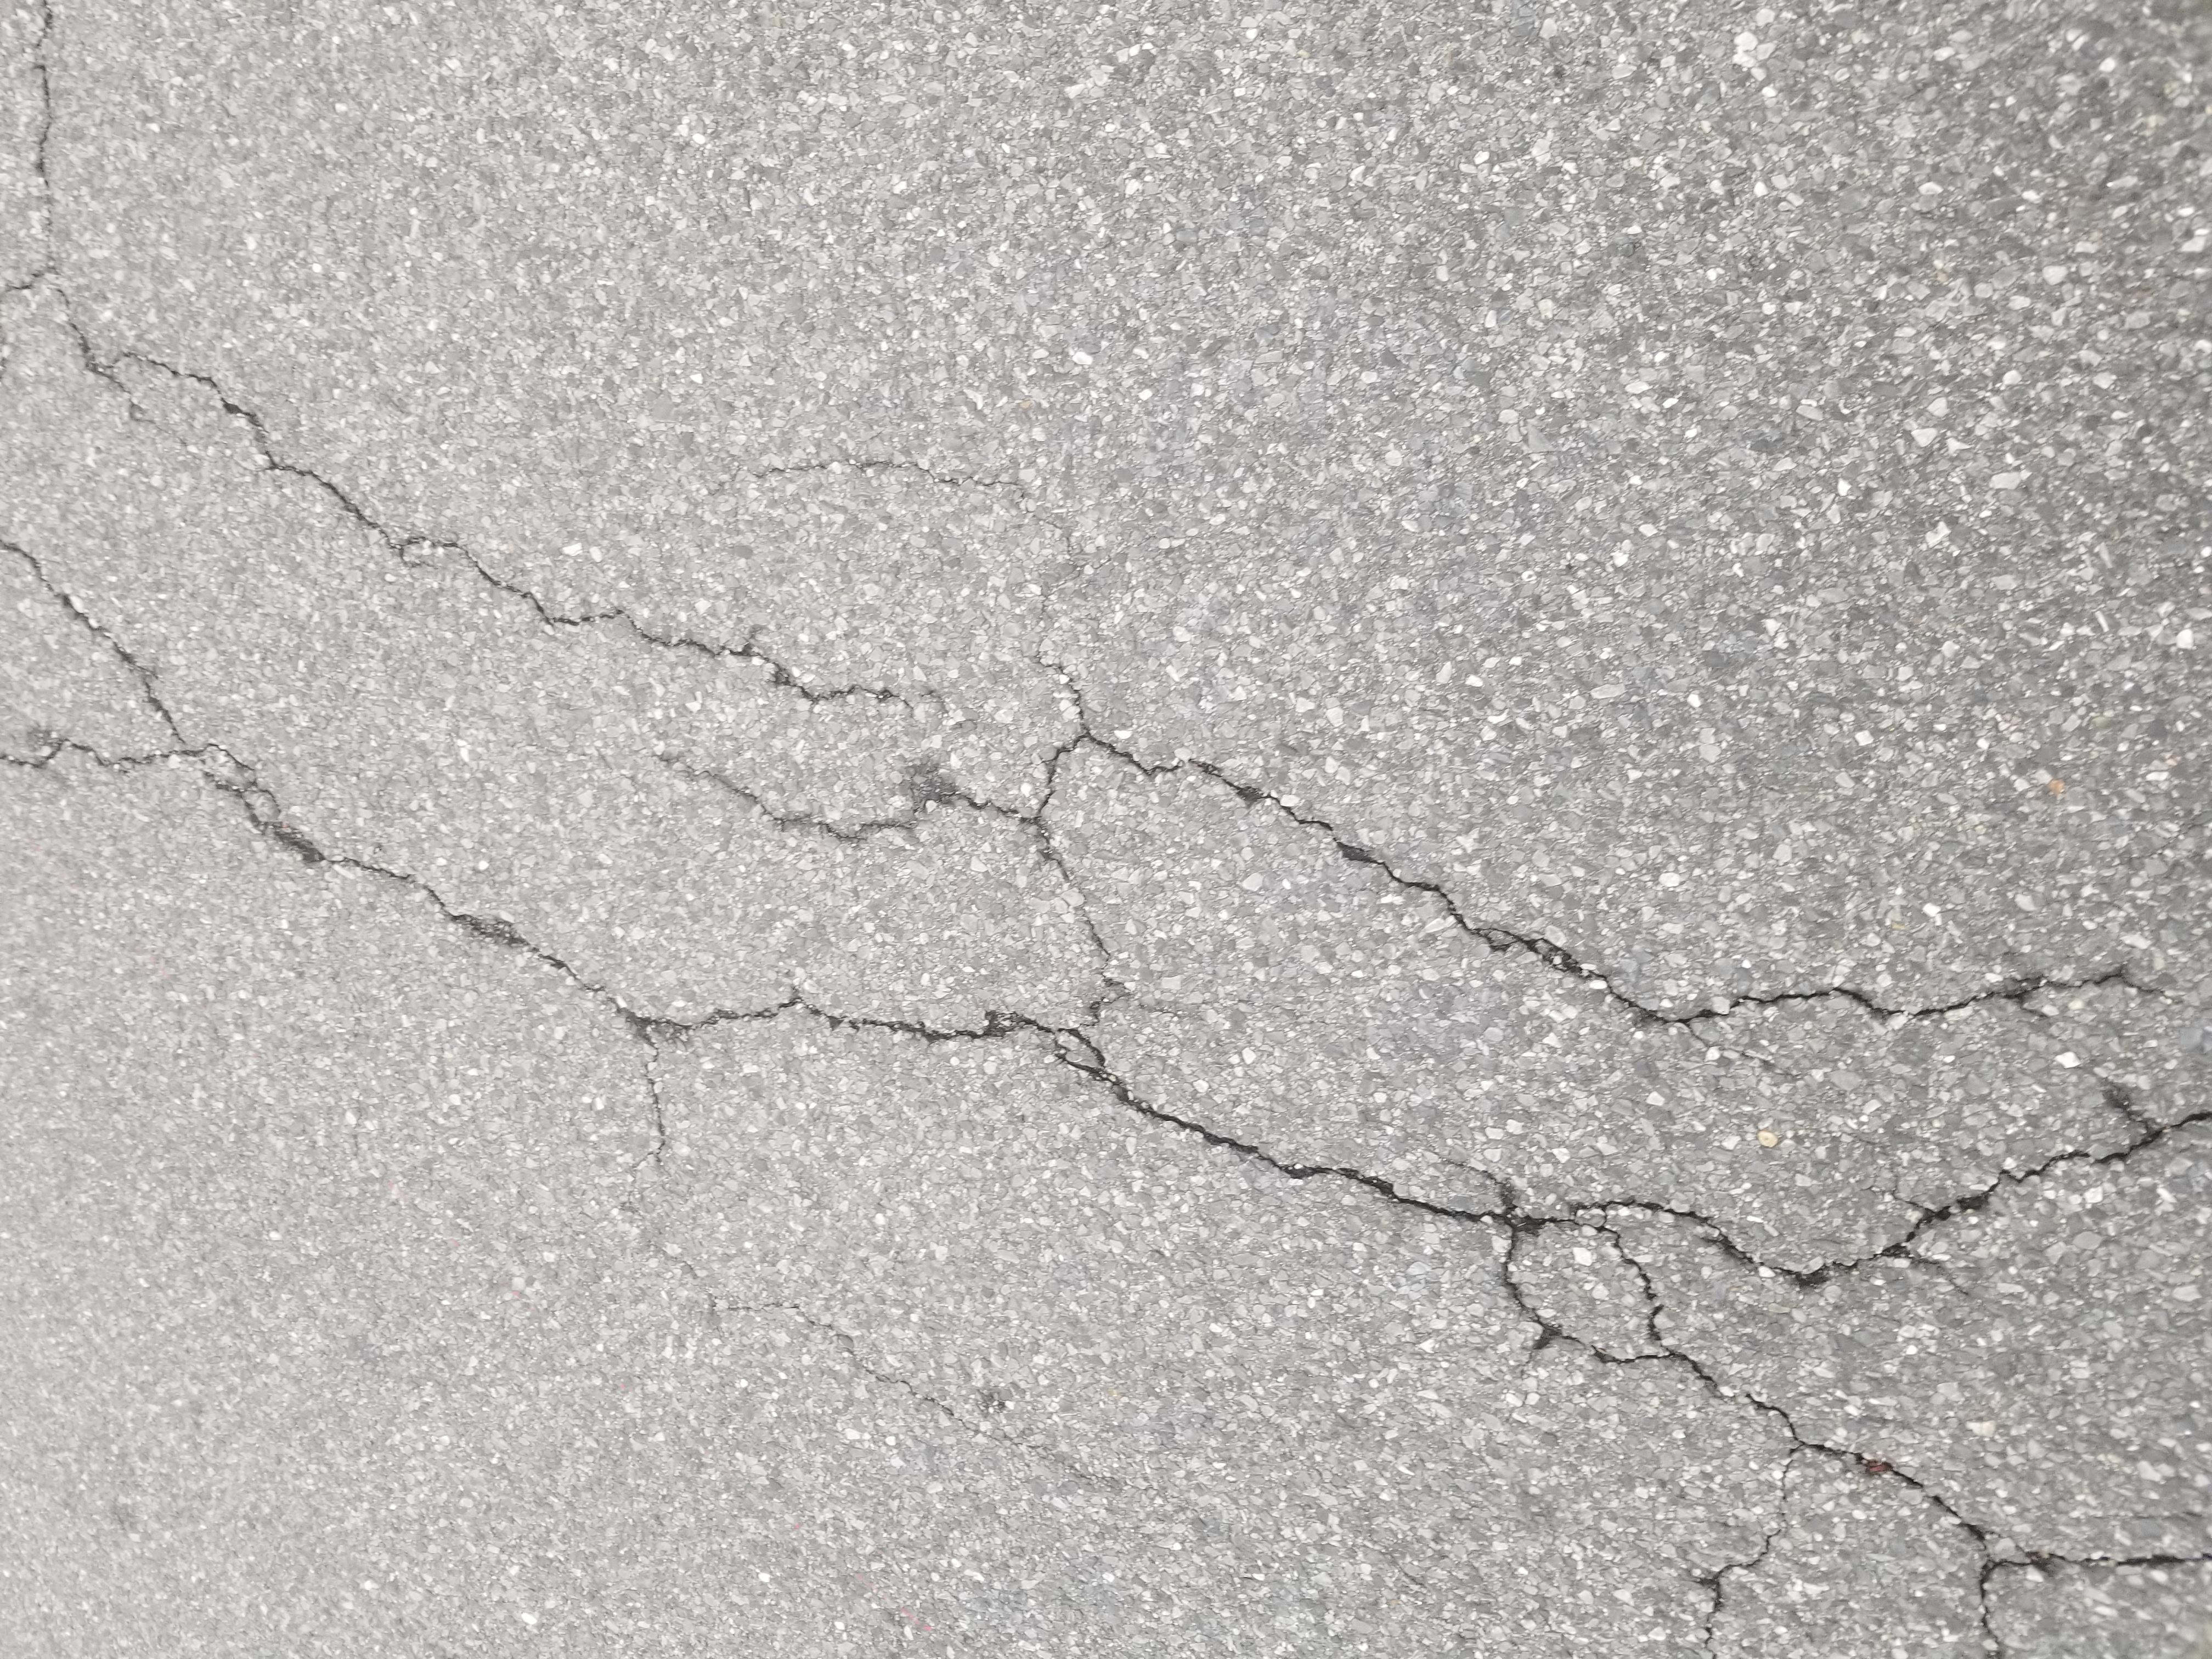crack: (132, 9, 1578, 1628)
